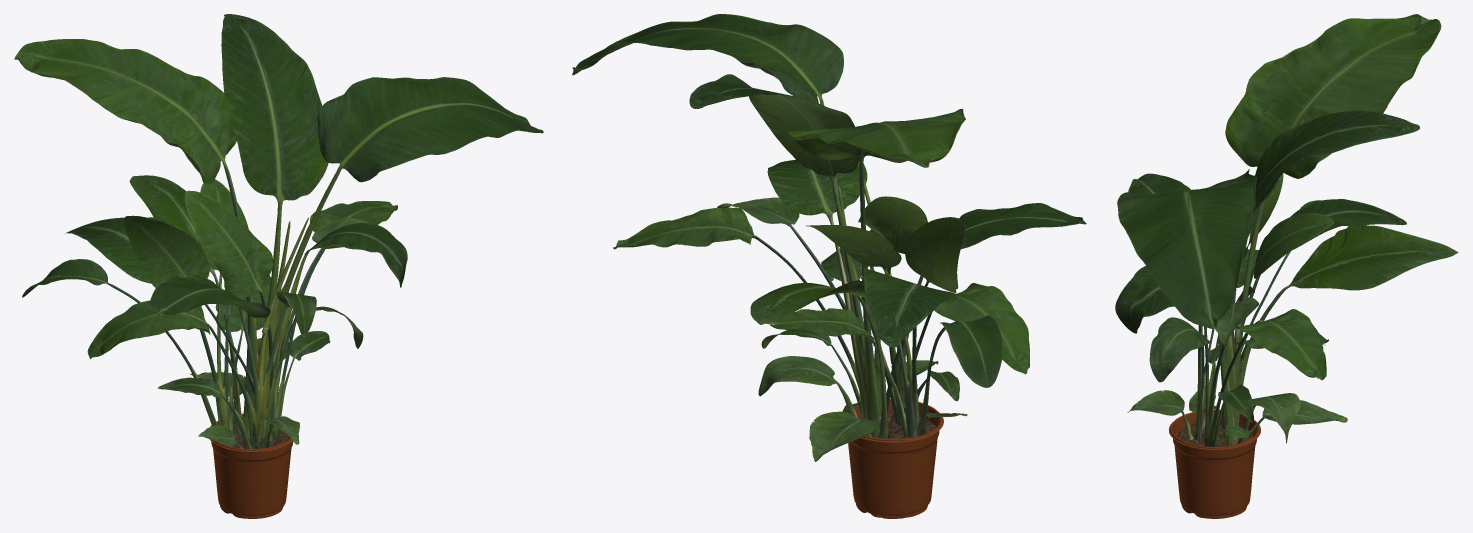
The model's file is kea.glb.
3 views of the same model, side by side, from view 1: azimuth 30°, elevation 25°; view 2: azimuth 150°, elevation 25°; view 3: azimuth 270°, elevation 25° (orthographic). The views are drawn at different scales.
Parts seen in each view (by area): view 1: Object_4; view 2: Object_4; view 3: Object_4.
Part boxes in pixels (x1,y1,x2,y2): Object_4: (14, 14, 543, 518); Object_4: (572, 14, 1086, 518); Object_4: (1115, 14, 1458, 518).
Size of the model in its own units: 1.85 by 1.64 by 1.2.
Materials: 1 (1 with a texture image).
